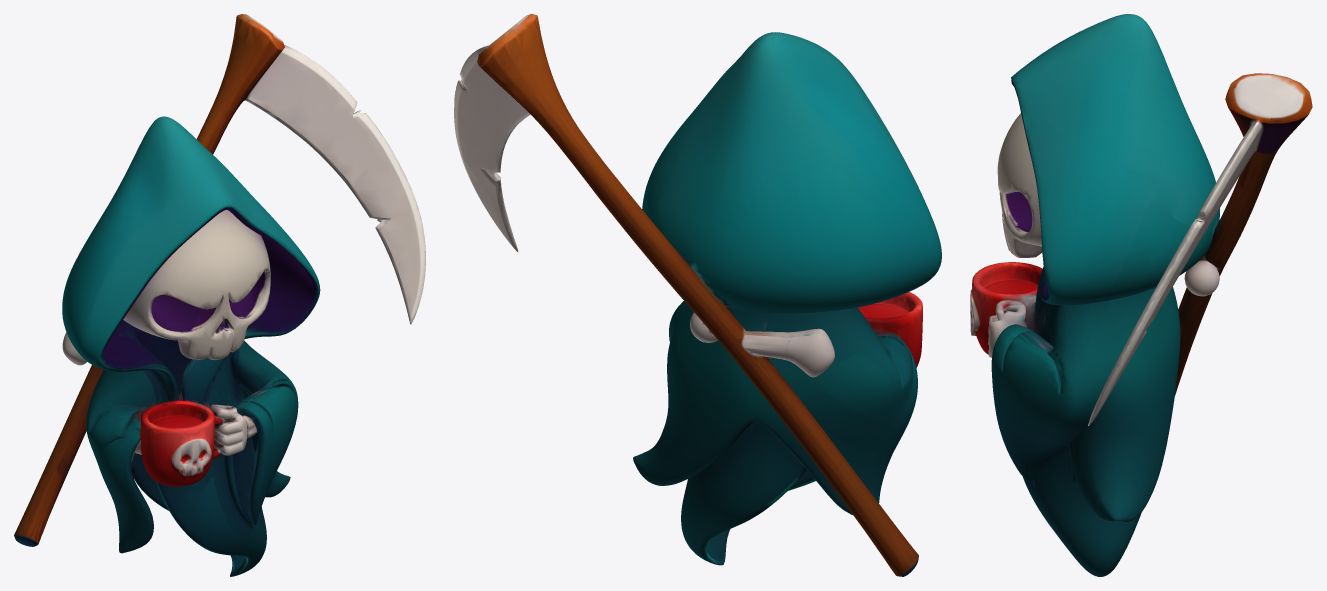
Rendered from pixellabs-grim-reaper-3d-3011.high.glb.
3 views of the same model, side by side, from view 1: azimuth 30°, elevation 25°; view 2: azimuth 150°, elevation 25°; view 3: azimuth 270°, elevation 25° (orthographic). The views are drawn at different scales.
Parts seen in each view (by area): view 1: material; view 2: material; view 3: material.
Part boxes in pixels (x1,y1,x2,y2): material: (14,14,425,576); material: (454,14,941,576); material: (970,14,1312,576).
Bounding box in the file's own units: 0.8709 × 1.02 × 0.5761.
1 material, 1 textured.
